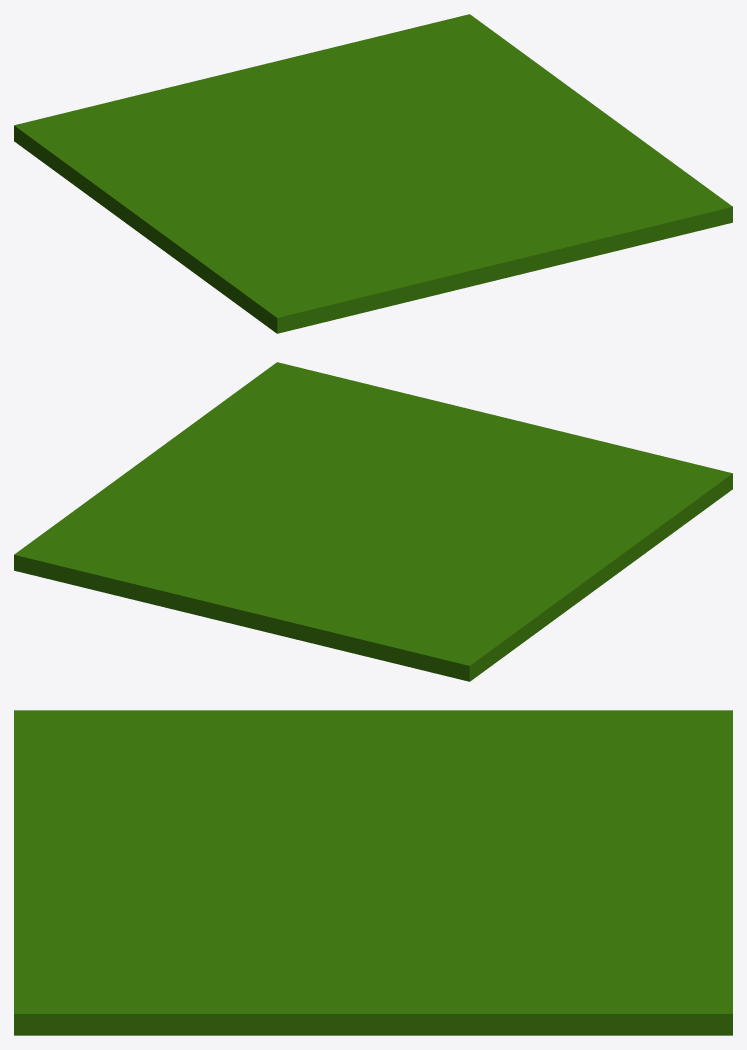
Rendered from floor.dae.
3 renders of one model, top to bottom at view 1: azimuth 30°, elevation 25°; view 2: azimuth 150°, elevation 25°; view 3: azimuth 270°, elevation 25°, orthographic. The views are drawn at different scales.
Visible parts, largest first — view 1: Plane; view 2: Plane; view 3: Plane.
Part boxes in pixels (box(x1,y1,x2,y2)): Plane: box(14, 14, 732, 333); Plane: box(14, 362, 732, 681); Plane: box(14, 710, 732, 1035).
Size of the model in its own units: 60 by 60 by 2.
